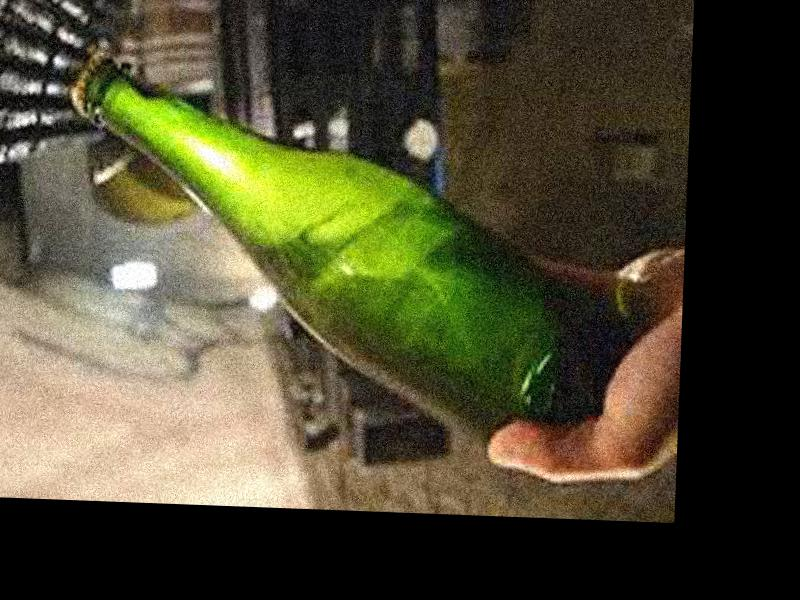Beer: (56, 43, 635, 464)
